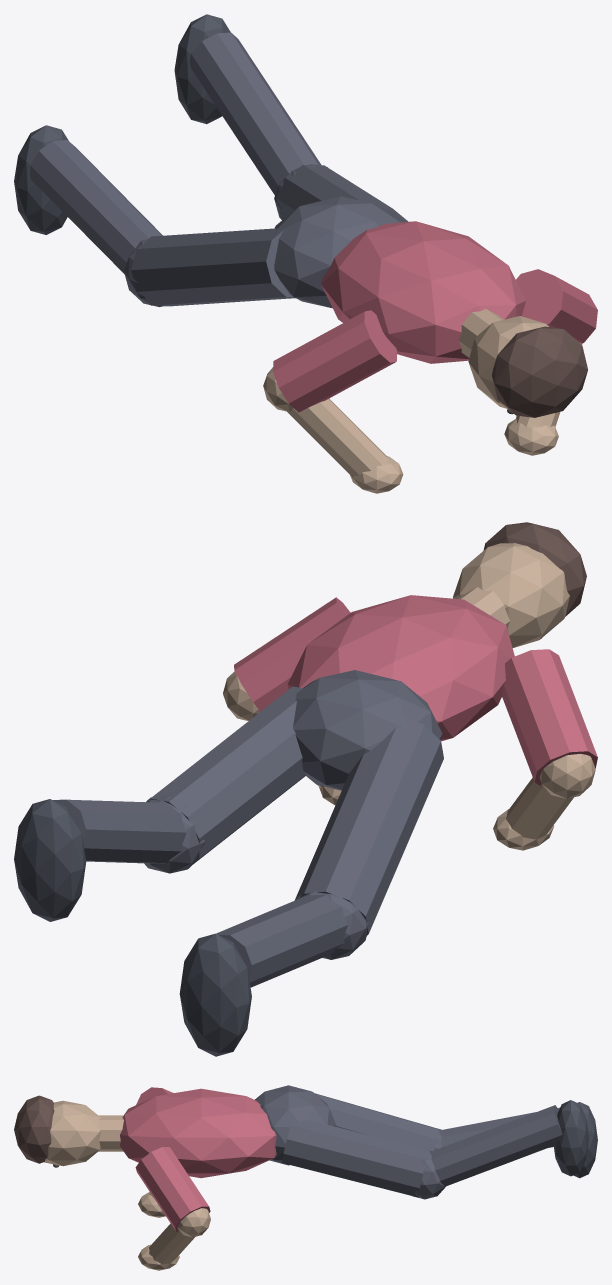
3 renders of one model, top to bottom at view 1: azimuth 30°, elevation 25°; view 2: azimuth 150°, elevation 25°; view 3: azimuth 270°, elevation 25°, orthographic. The views are drawn at different scales.
Parts seen in each view (by area): view 1: world; view 2: world; view 3: world.
Part boxes in pixels (x1,y1,x2,y2): world: [14, 14, 597, 493]; world: [14, 522, 597, 1056]; world: [14, 1085, 597, 1270].
Size of the model in its own units: 0.93 by 0.6213 by 2.07.
